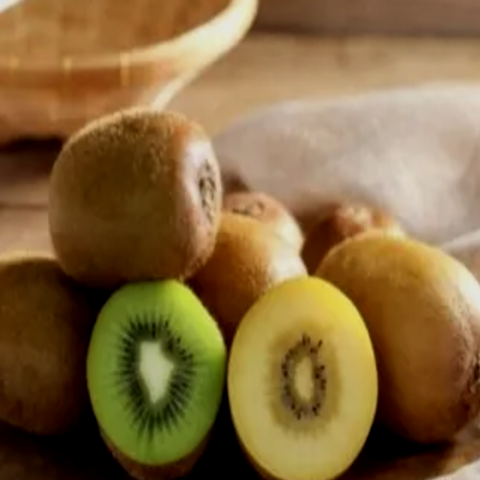kiwi: (302, 197, 479, 476), (35, 101, 236, 284)
